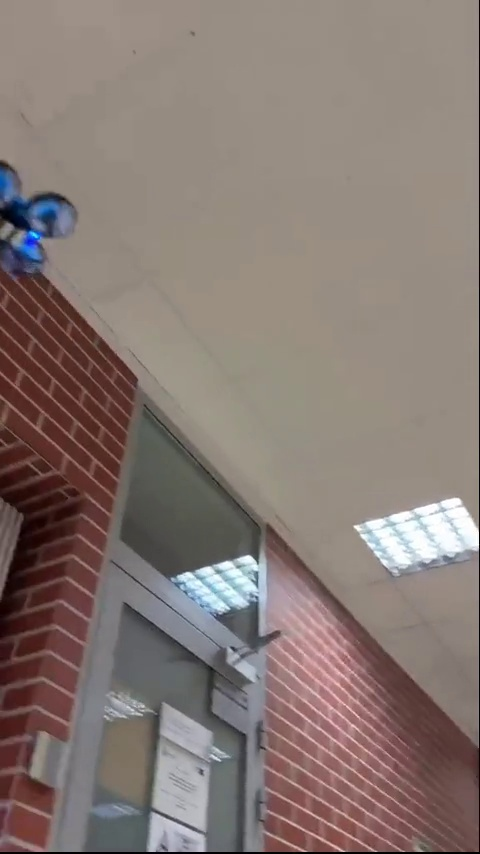drone: (0, 166, 75, 282)
